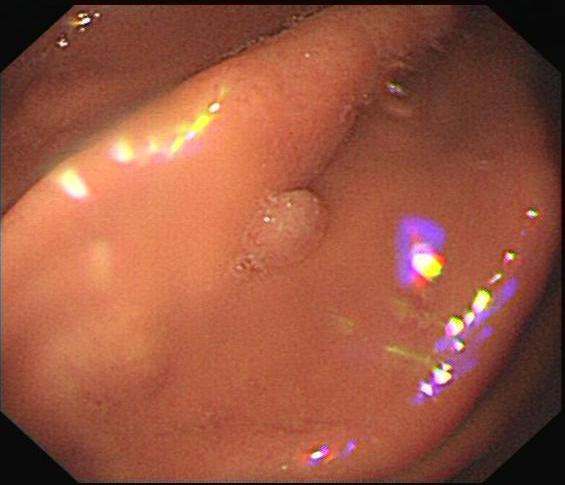Polyp: (210, 153, 357, 302)
